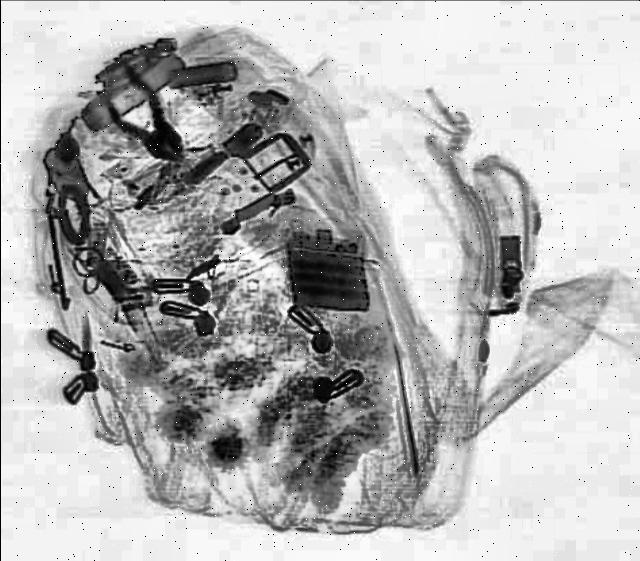Pliers: (77, 54, 207, 174)
